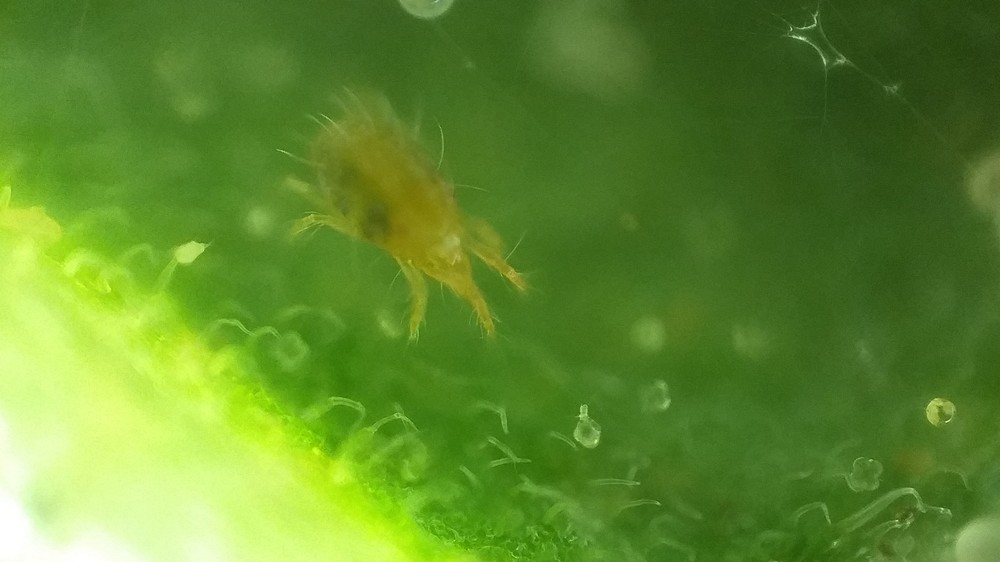Aracnido Rojo: (258, 81, 552, 362)
